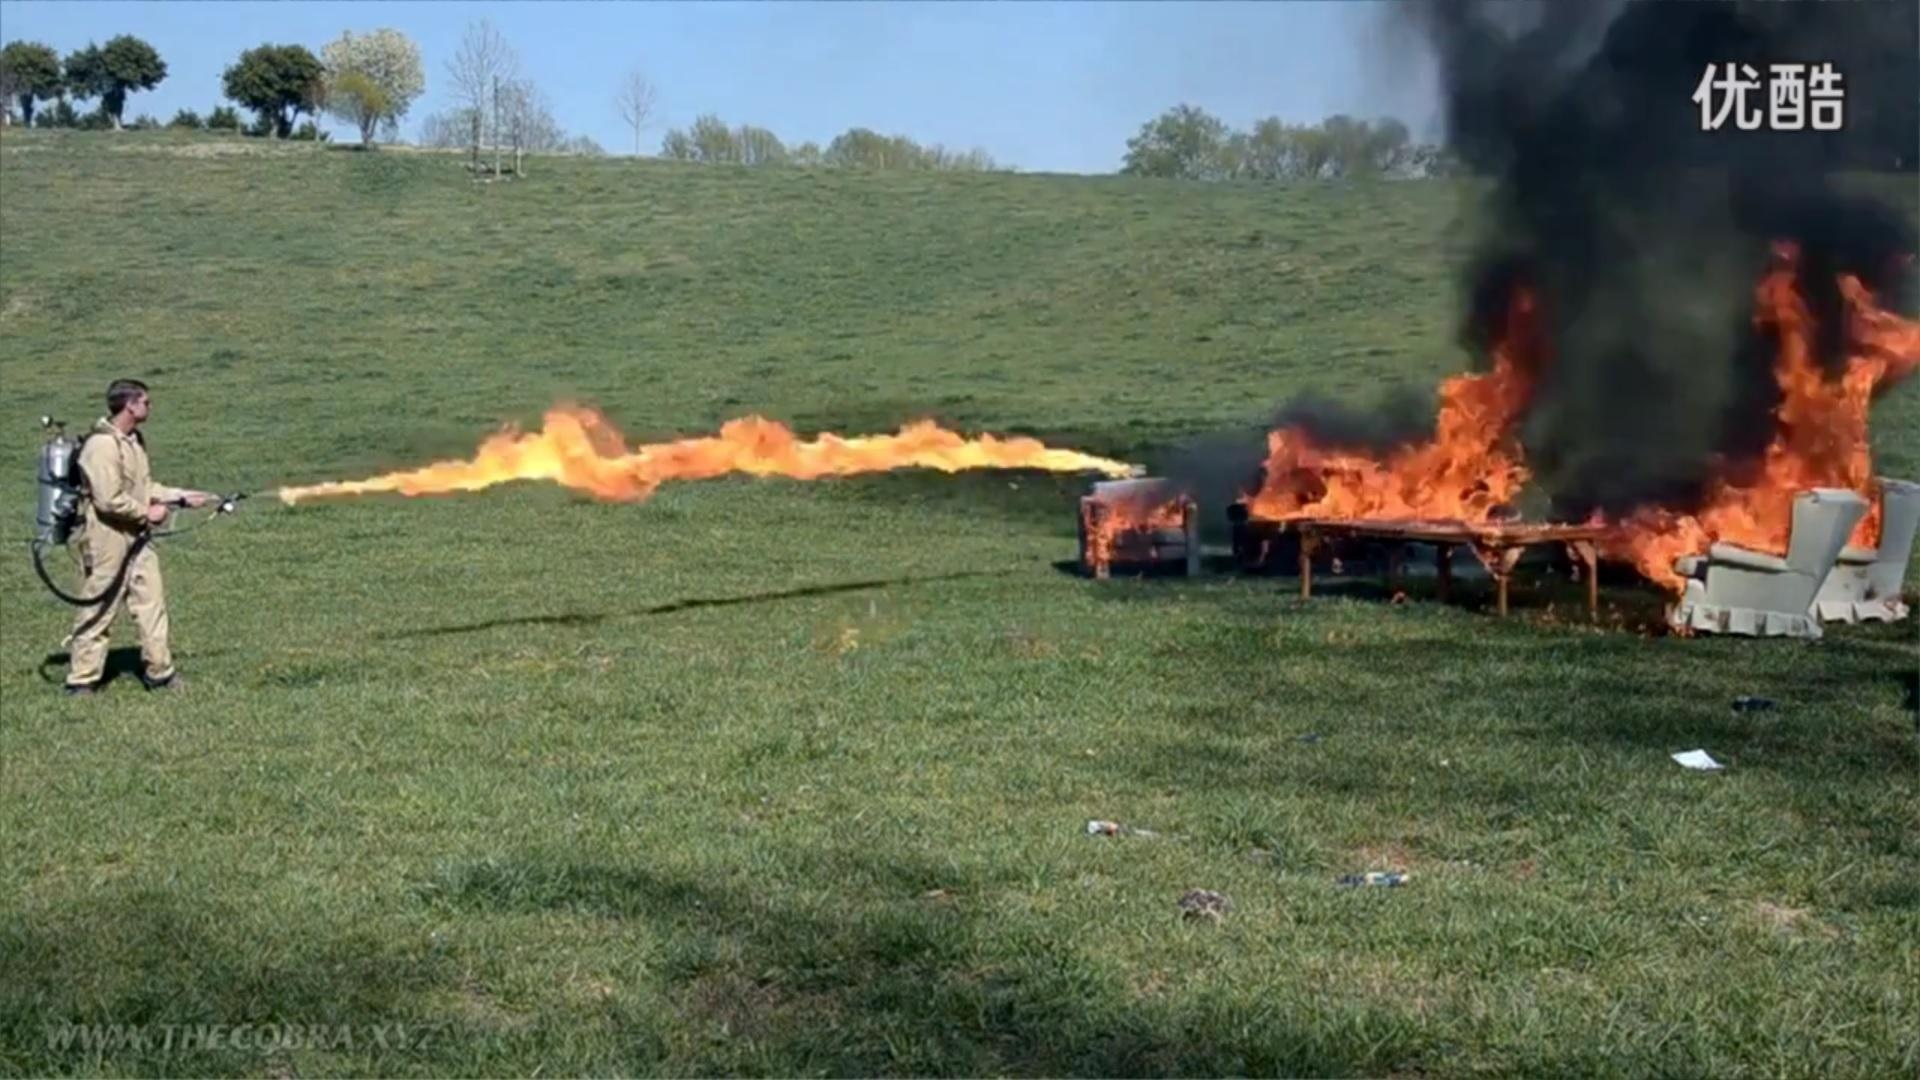fire: (261, 396, 1164, 534), (1594, 258, 1919, 578), (1250, 311, 1545, 535)
